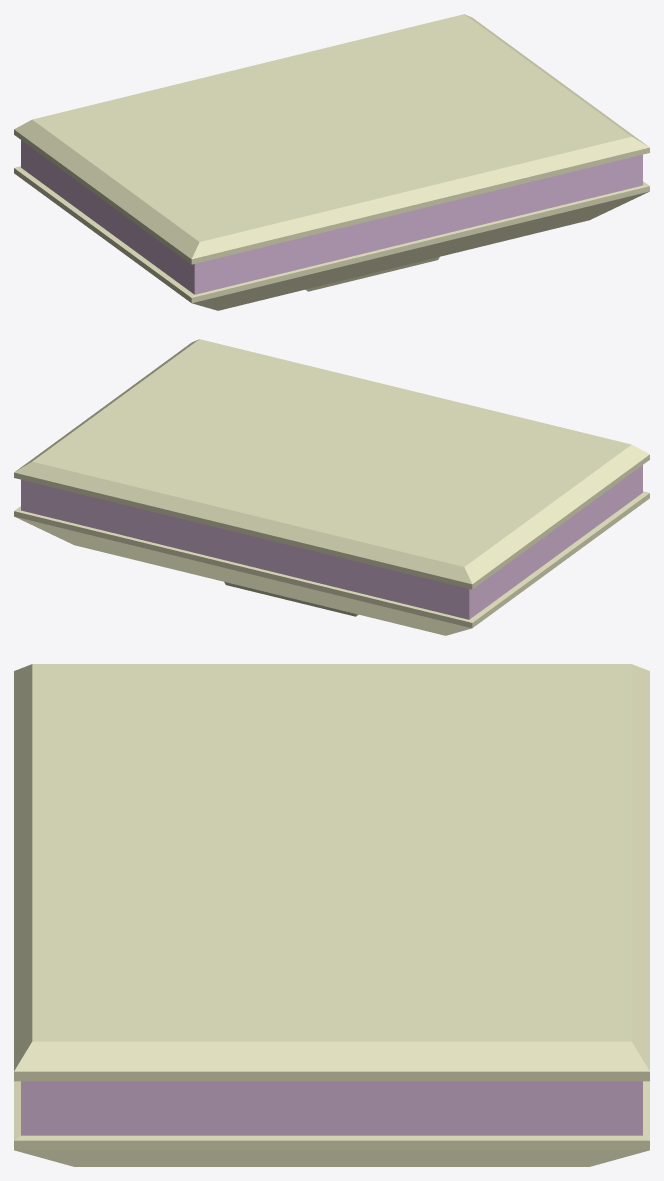
Rendered from Character_Rooms_Platform.fbx.
3 views of the same model, one above another, from view 1: azimuth 30°, elevation 25°; view 2: azimuth 150°, elevation 25°; view 3: azimuth 270°, elevation 25° (orthographic). The views are drawn at different scales.
Visible parts, largest first — view 1: Platform; view 2: Platform; view 3: Platform.
Boxes of the visible parts, x1,y1,x2,y2 form: Platform: (14, 14, 649, 310); Platform: (14, 339, 649, 635); Platform: (14, 664, 649, 1166).
Size of the model in its own units: 378 by 92.8 by 254.
